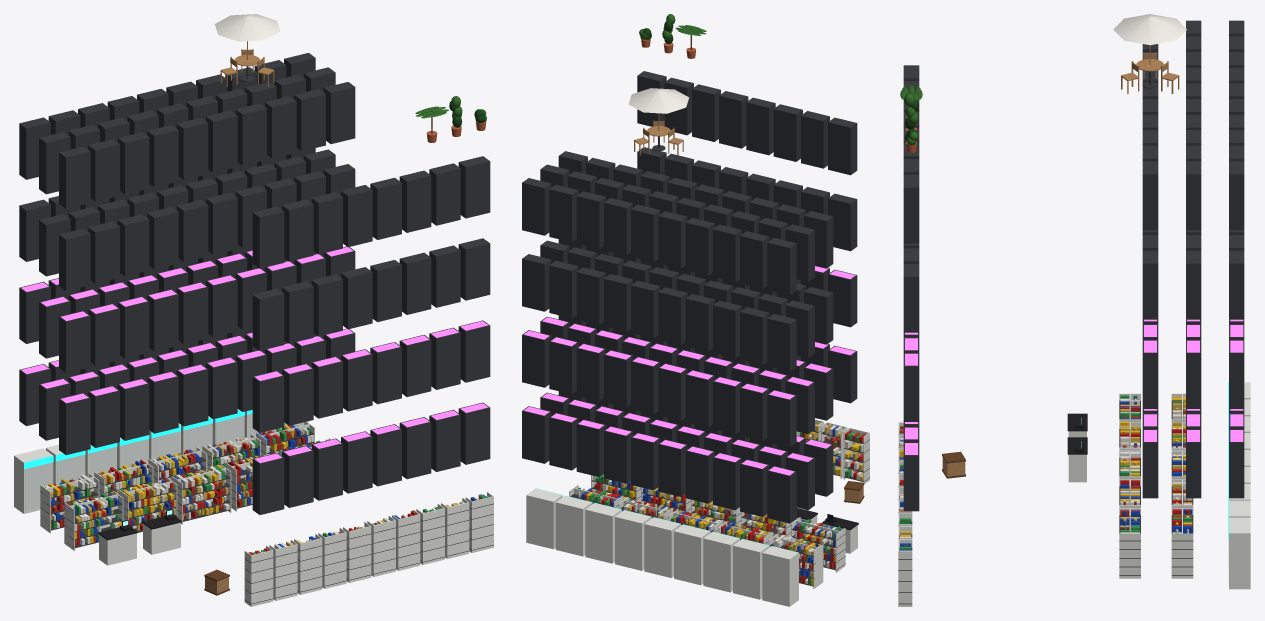
File: i_vertical_farm.gltf
The picture shows the model from 3 angles, left to right: view 1: azimuth 30°, elevation 25°; view 2: azimuth 150°, elevation 25°; view 3: azimuth 270°, elevation 25°; orthographic projection. The views are drawn at different scales.
Parts seen in each view (by area): view 1: I_vertical_farm; view 2: I_vertical_farm; view 3: I_vertical_farm.
Part boxes in pixels (<box>): I_vertical_farm: <box>14,14,493,606</box>; I_vertical_farm: <box>522,14,869,606</box>; I_vertical_farm: <box>898,14,1250,606</box>.
Bounding box in the file's own units: 12.97 × 18.65 × 11.44.
Materials: 23 (4 with a texture image).
